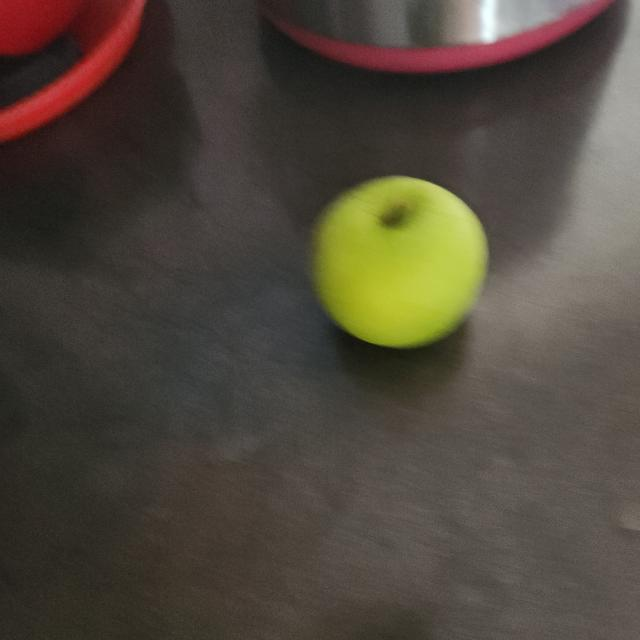apple: (298, 168, 500, 362)
